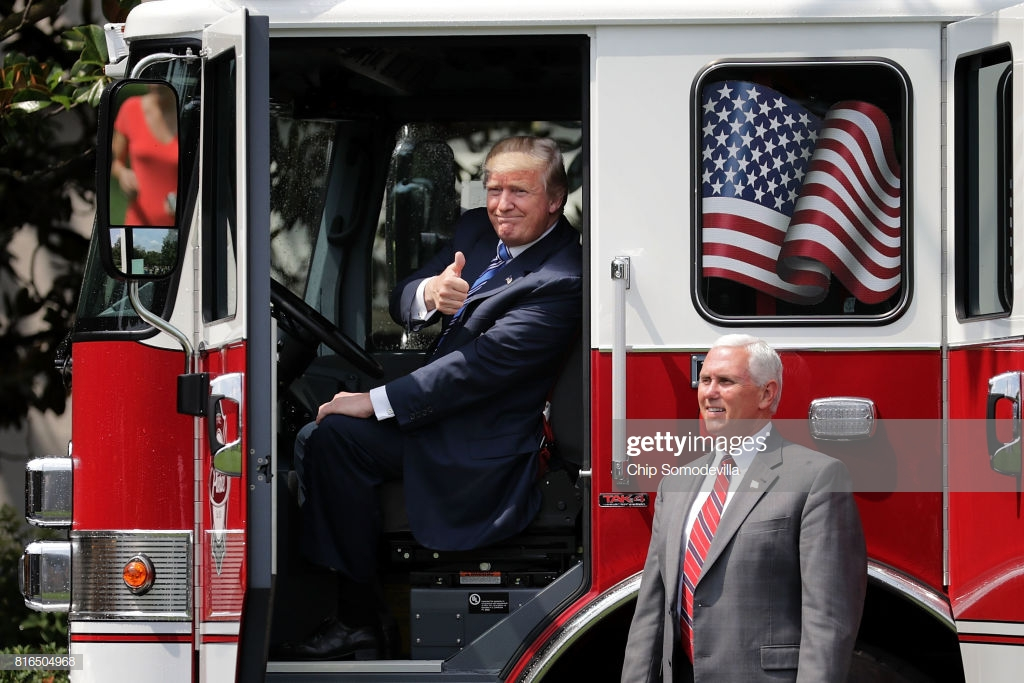thumbsup: (436, 250, 469, 314)
